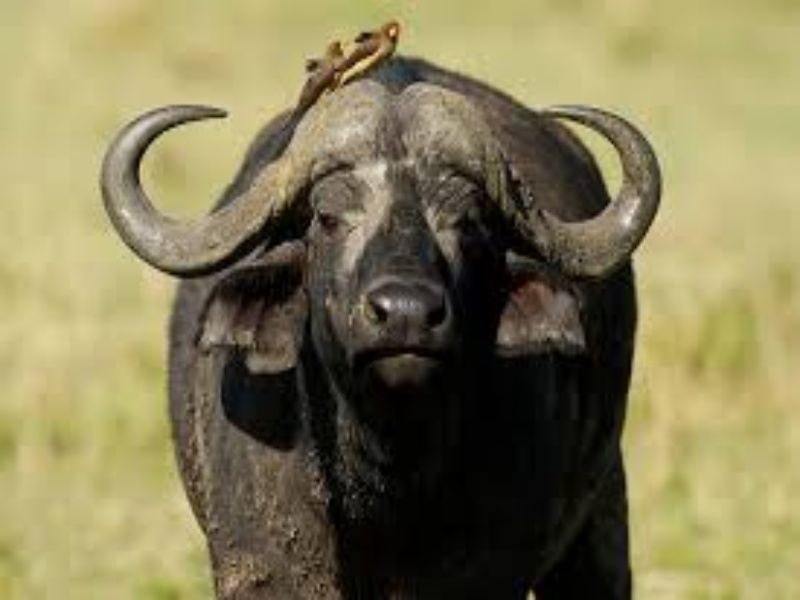buffalo: (85, 18, 673, 579)
